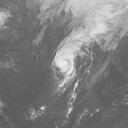cyclone: (53, 35, 81, 78)
